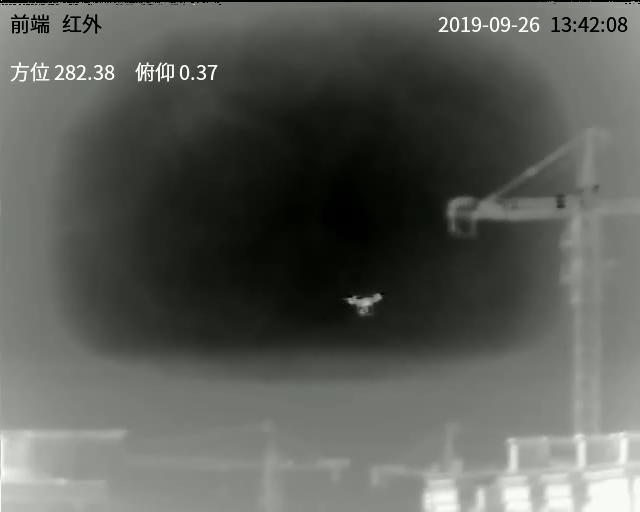uav: (345, 289, 385, 317)
